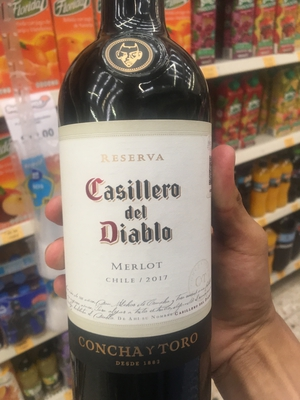casillero del diablo merlot: (59, 17, 215, 400)
